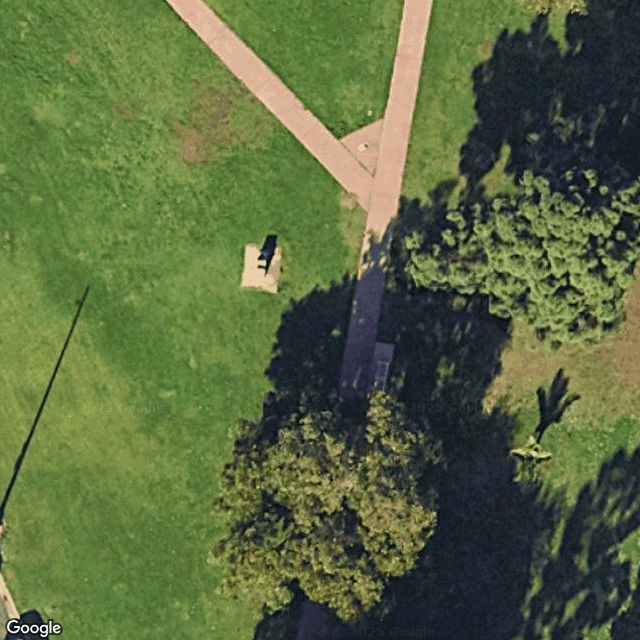palm: (507, 433, 556, 491)
